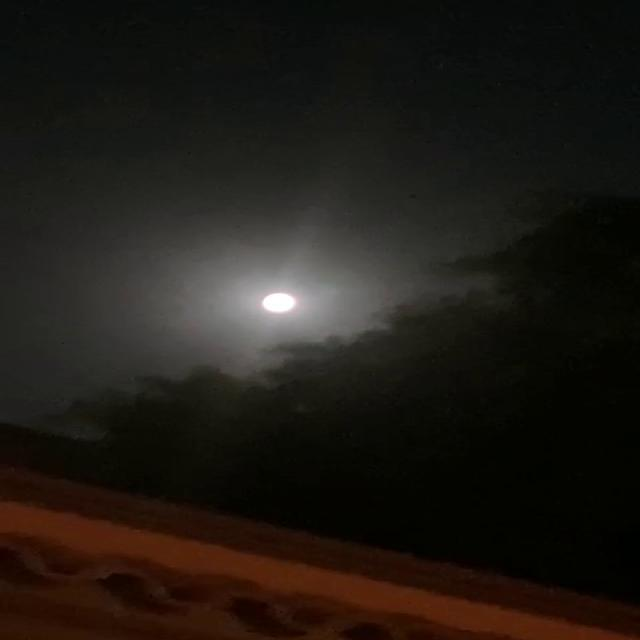moon: (272, 300, 316, 322)
